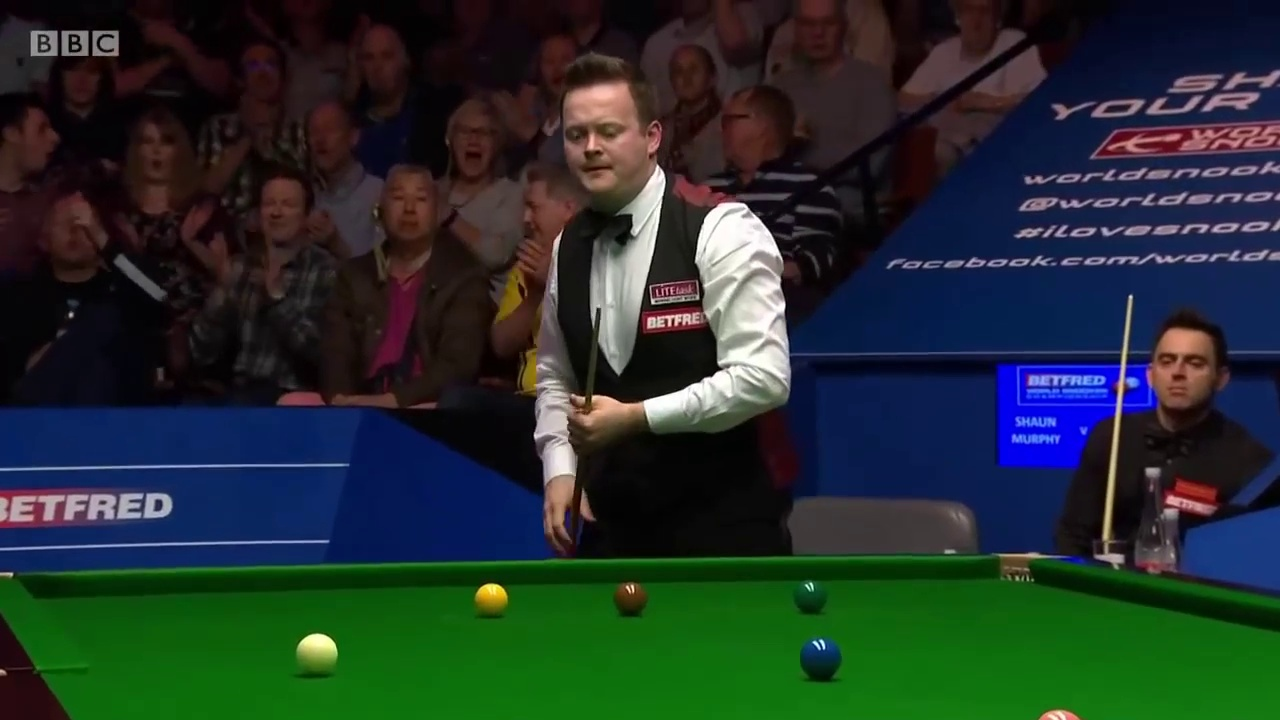blue: (800, 637, 842, 681)
brown: (612, 580, 646, 615)
green: (791, 578, 827, 612)
white: (291, 633, 340, 672)
yellow: (471, 584, 510, 615)
